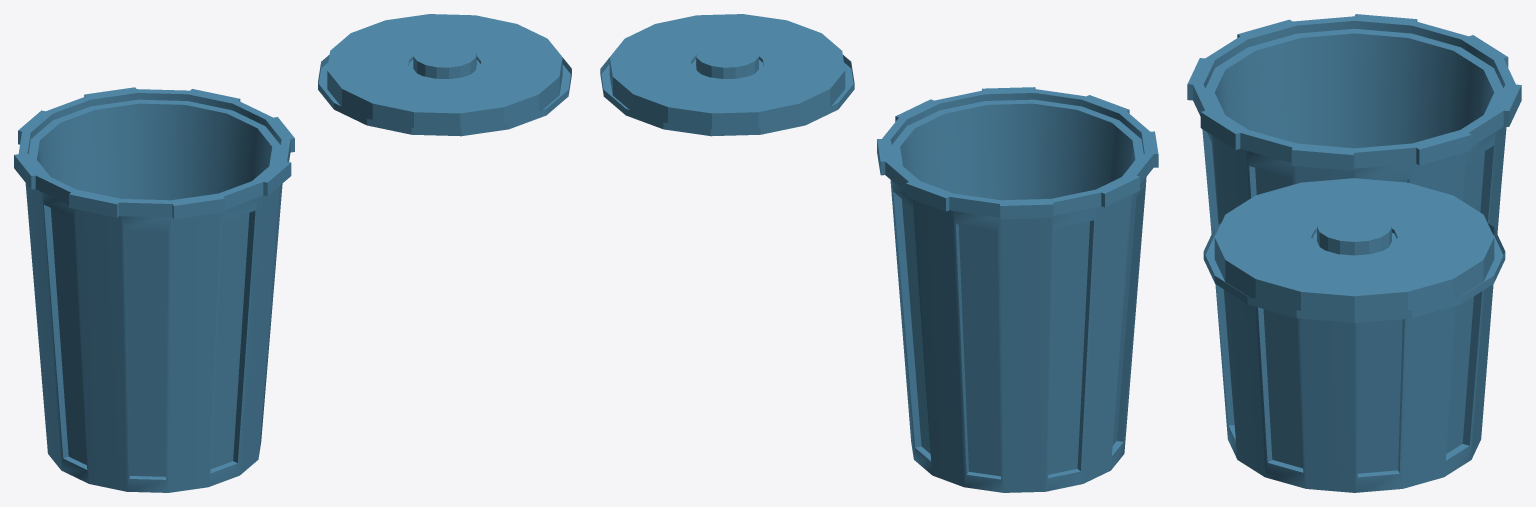
The model's file is TrushCan.fbx.
3 views of the same model, side by side, from view 1: azimuth 30°, elevation 25°; view 2: azimuth 150°, elevation 25°; view 3: azimuth 270°, elevation 25° (orthographic). The views are drawn at different scales.
Parts seen in each view (by area): view 1: pCylinder1, backet_pCylinder1; view 2: pCylinder1, backet_pCylinder1; view 3: pCylinder1, backet_pCylinder1.
Part boxes in pixels (x1,y1,x2,y2): pCylinder1: (14, 87, 294, 492); backet_pCylinder1: (318, 14, 571, 136); pCylinder1: (877, 87, 1158, 492); backet_pCylinder1: (600, 14, 854, 136); pCylinder1: (1187, 14, 1521, 492); backet_pCylinder1: (1203, 178, 1505, 322).
Bounding box in the file's own units: 4.64 × 2.73 × 2.17.
